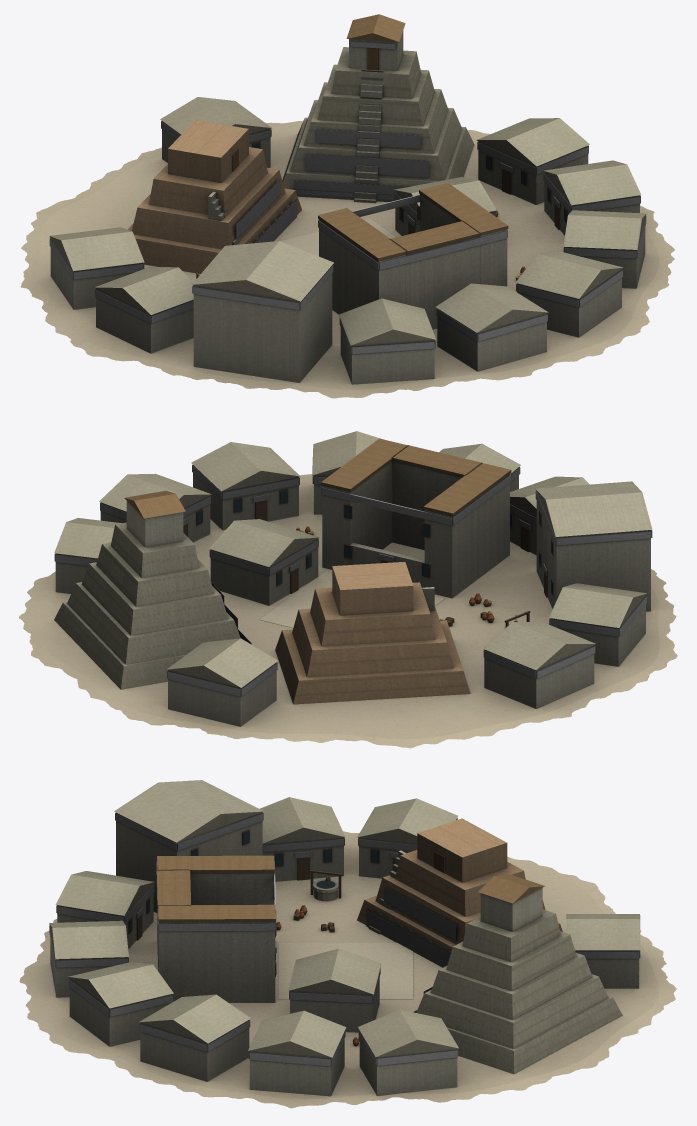
The model's file is classical-town-medium-b-americas.glb.
3 views of the same model, one above another, from view 1: azimuth 30°, elevation 25°; view 2: azimuth 150°, elevation 25°; view 3: azimuth 270°, elevation 25° (orthographic).
Parts seen in each view (by area): view 1: LOD0; view 2: LOD0; view 3: LOD0.
Part boxes in pixels (left/top/right/bottom): LOD0: left=20, top=14, right=674, bottom=398; LOD0: left=19, top=431, right=677, bottom=748; LOD0: left=19, top=780, right=676, bottom=1108.
Size of what is drawn, in the model's own units: 6 by 1.45 by 5.98.
3 materials, 3 textured.
